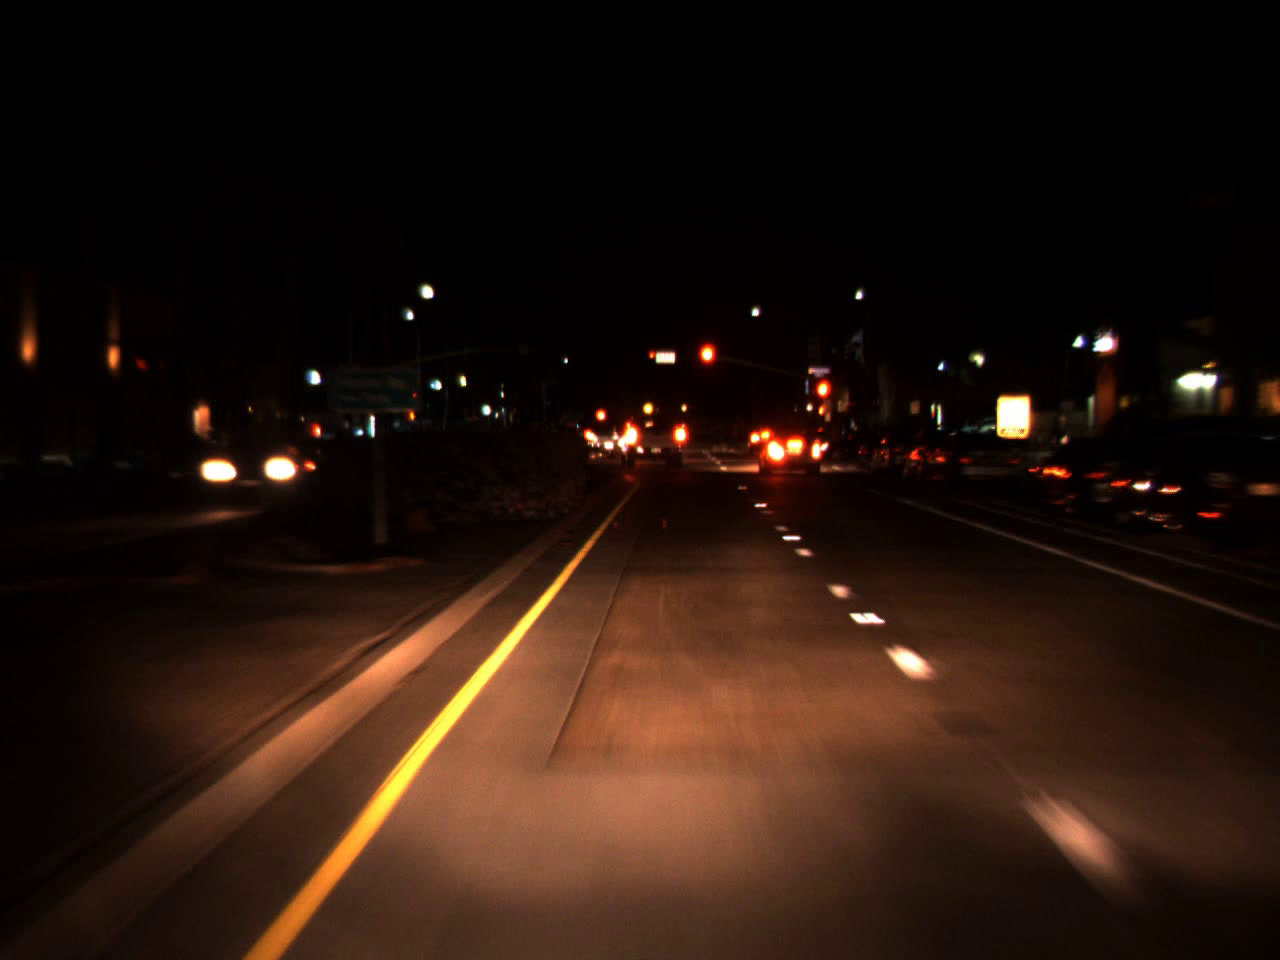stop: (696, 340, 718, 385), (812, 375, 833, 423), (648, 351, 657, 364)
